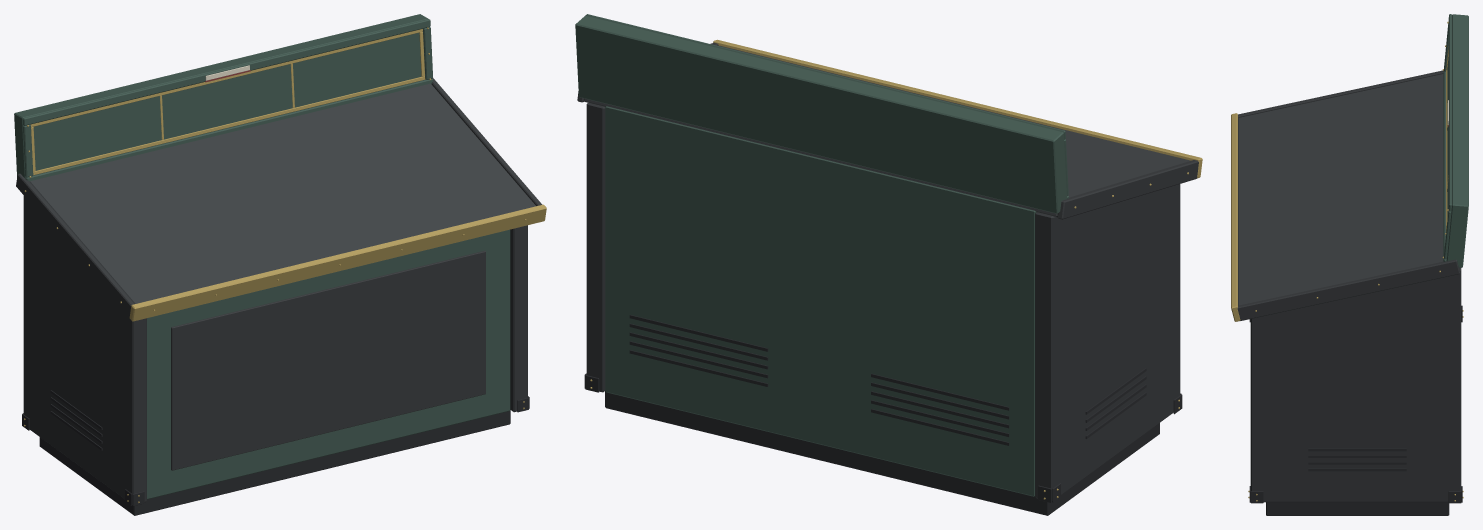
The model's file is control_panel.fbx.
3 views of the same model, side by side, from view 1: azimuth 30°, elevation 25°; view 2: azimuth 150°, elevation 25°; view 3: azimuth 270°, elevation 25° (orthographic). The views are drawn at different scales.
Visible parts, largest first — view 1: Console_MainOperatingSurface, Console_FrontServicePanel, Console_RearFascia, Console_LeftSupport, Console_LowerStructure, Console_FrontEdgeTrim, Console_BasePlinth, Console_RearFasciaFrame, Console_RightSupport, Console_LeftEdgeTrim, Console_RightEdgeTrim, Console_VentilationDetails; view 2: Console_LowerStructure, Console_RearFascia, Console_LeftSupport, Console_BasePlinth, Console_VentilationDetails, Console_MainOperatingSurface, Console_RightSupport, Console_FrontEdgeTrim, Console_LeftEdgeTrim, Console_CornerBrackets; view 3: Console_RightSupport, Console_MainOperatingSurface, Console_RearFascia, Console_RightEdgeTrim, Console_BasePlinth, Console_FrontEdgeTrim, Console_VentilationDetails, Console_LeftEdgeTrim, Console_CornerBrackets, Console_RearFasciaFrame.
Boxes of the visible parts, x1,y1,x2,y2 form: Console_MainOperatingSurface: (30,83,535,303); Console_FrontServicePanel: (171,250,485,470); Console_RearFascia: (14,14,433,181); Console_LeftSupport: (23,195,146,504); Console_LowerStructure: (147,229,510,499); Console_FrontEdgeTrim: (129,204,546,321); Console_BasePlinth: (39,410,510,515); Console_RearFasciaFrame: (30,29,425,175); Console_RightSupport: (510,225,527,412); Console_LeftEdgeTrim: (16,173,134,317); Console_RightEdgeTrim: (431,78,542,205); Console_VentilationDetails: (50,390,102,450); Console_LowerStructure: (605,106,1036,496); Console_RearFascia: (575,14,1068,213); Console_LeftSupport: (1035,184,1180,501); Console_BasePlinth: (605,391,1159,515); Console_VentilationDetails: (629,315,1146,445); Console_MainOperatingSurface: (584,45,1190,216); Console_RightSupport: (586,103,605,392); Console_FrontEdgeTrim: (713,39,1202,178); Console_LeftEdgeTrim: (1057,160,1198,219); Console_CornerBrackets: (584,373,1182,502); Console_RightSupport: (1250,267,1461,502); Console_MainOperatingSurface: (1238,74,1443,305); Console_RearFascia: (1443,14,1468,267); Console_RightEdgeTrim: (1237,259,1459,320); Console_BasePlinth: (1266,502,1449,515); Console_FrontEdgeTrim: (1231,113,1240,321); Console_VentilationDetails: (1308,448,1406,471); Console_LeftEdgeTrim: (1238,70,1443,117); Console_CornerBrackets: (1249,305,1462,503); Console_RearFasciaFrame: (1446,46,1448,232).
Size of the model in its own units: 151 by 115 by 77.86.
